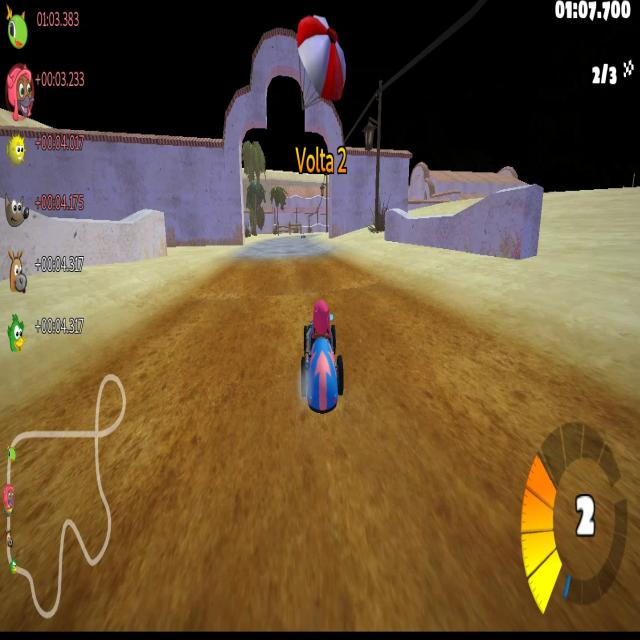player_kart: (296, 292, 346, 422)
track: (348, 404, 638, 638), (1, 408, 296, 623), (349, 301, 471, 409), (296, 422, 346, 631), (59, 365, 296, 408), (130, 309, 294, 362), (473, 346, 602, 404), (195, 267, 292, 307), (292, 266, 370, 296), (260, 229, 320, 260), (372, 273, 408, 306), (235, 247, 261, 263), (319, 244, 331, 258)
